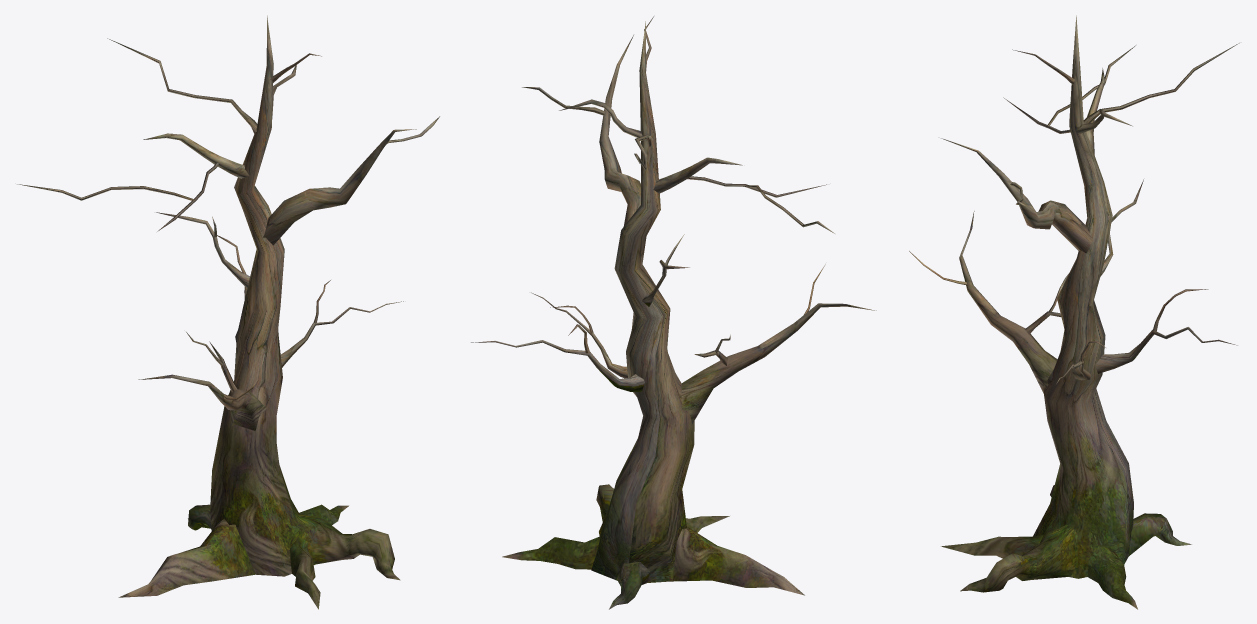
Rendered from shi_gan_03.FBX.
3 renders of one model, left to right at view 1: azimuth 30°, elevation 25°; view 2: azimuth 150°, elevation 25°; view 3: azimuth 270°, elevation 25°, orthographic.
Visible parts, largest first — view 1: shi_gan_03; view 2: shi_gan_03; view 3: shi_gan_03.
Part boxes in pixels (x1,y1,x2,y2): shi_gan_03: [17, 15, 439, 609]; shi_gan_03: [471, 16, 876, 609]; shi_gan_03: [909, 15, 1239, 609].
Size of the model in its own units: 57.53 by 80.27 by 45.28.
